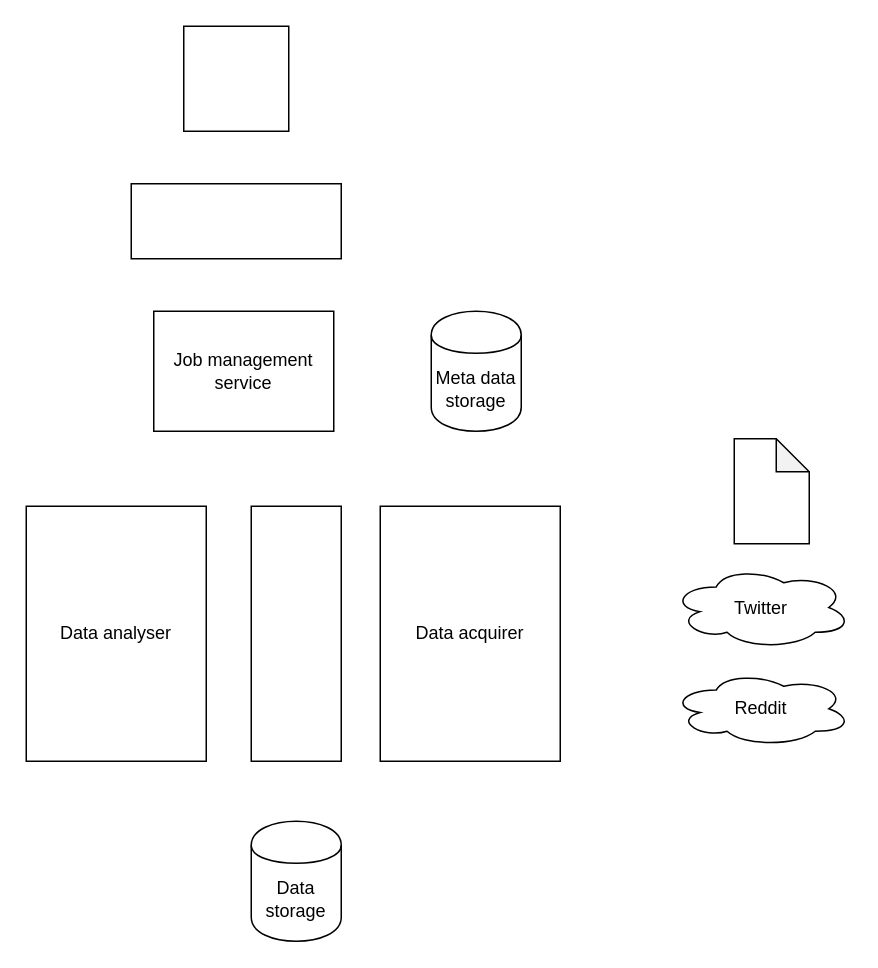
The diagram is 878 pixels wide and 968 high, and some of its shapes have lost their labels. The shapes that lost their labels are listed below. From the top down, each one's box as (x1, y1, x2, y2) in pixels, then its label:
(182, 25, 289, 131): UI
(130, 182, 341, 259): Backend
(733, 437, 809, 544): File
(250, 505, 341, 761): Messaging platform
